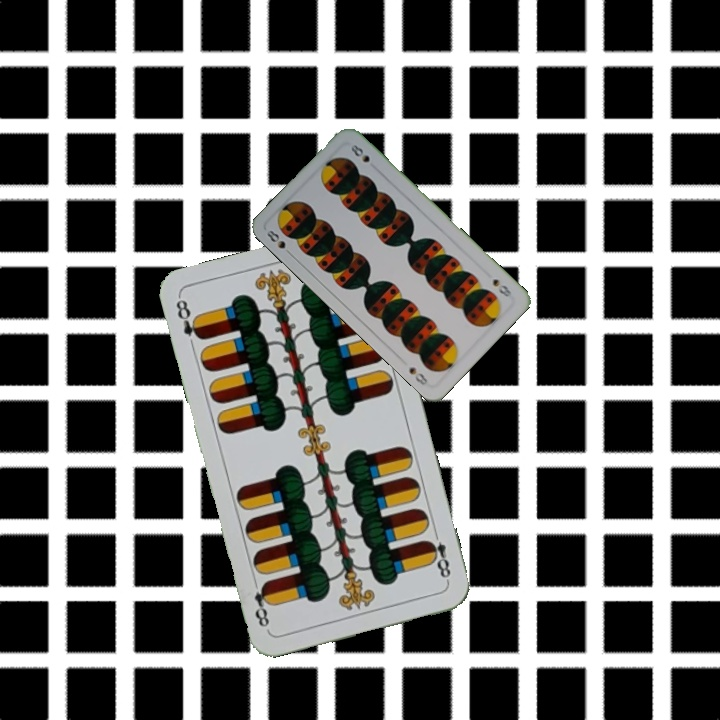E8: (423, 526, 453, 585), (171, 294, 206, 343)
S8: (263, 226, 295, 259), (489, 275, 516, 300)
